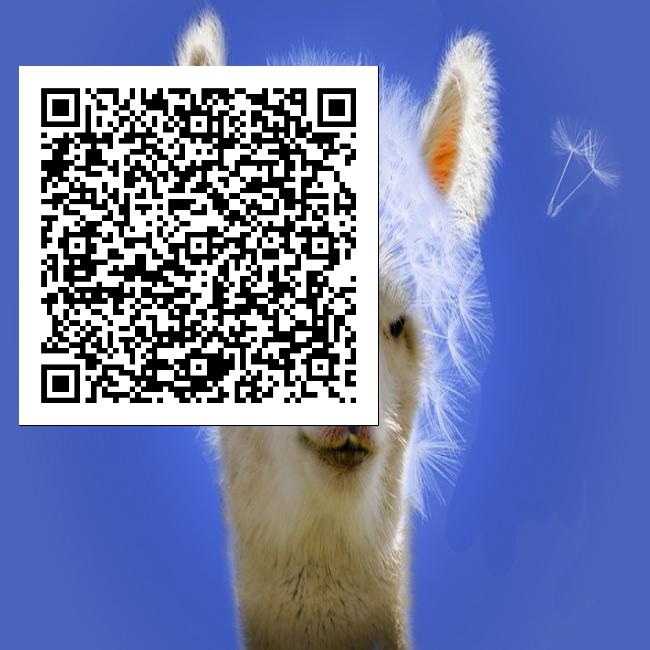qr_code: (19, 66, 378, 425)
